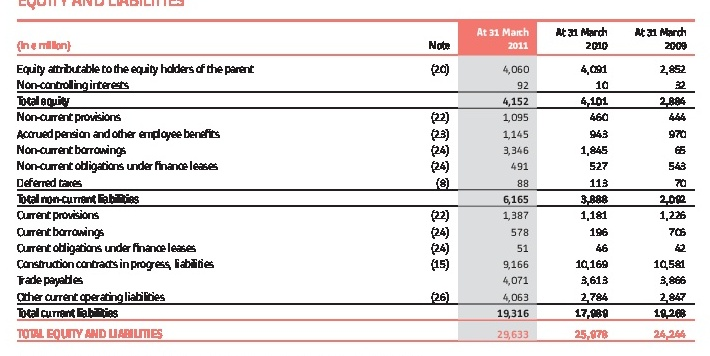table: (0, 0, 710, 356)
